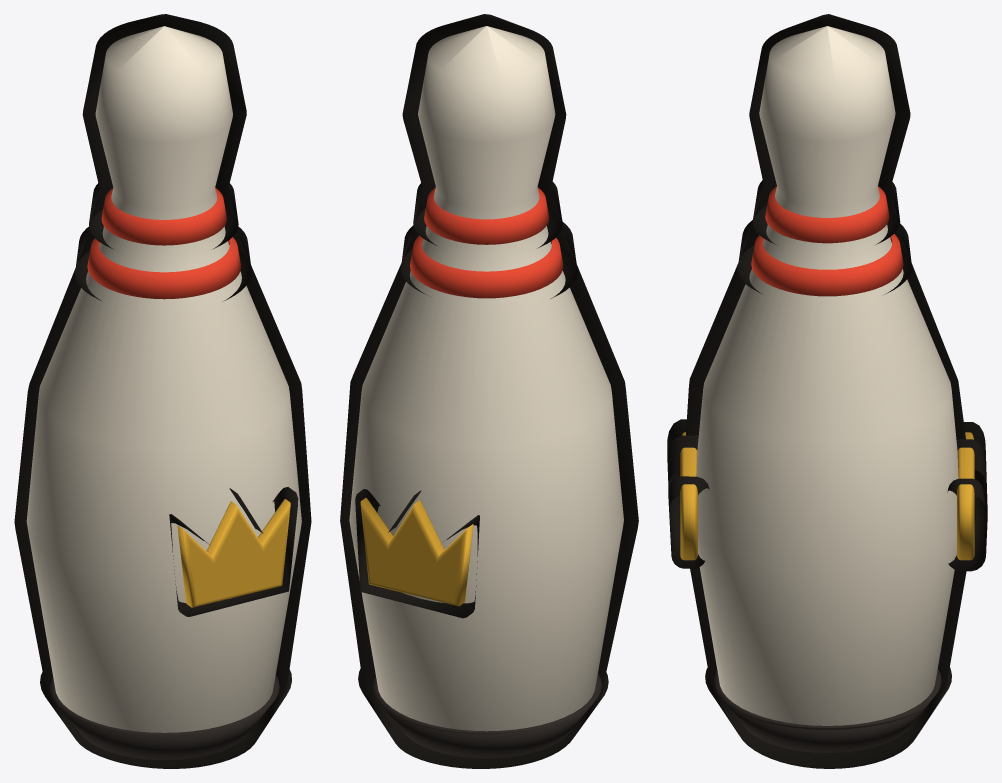
Rendered from bowlingpin.glb.
3 renders of one model, left to right at view 1: azimuth 30°, elevation 25°; view 2: azimuth 150°, elevation 25°; view 3: azimuth 270°, elevation 25°, orthographic.
Visible parts, largest first — view 1: BowlingPin, BowlingPin_outline; view 2: BowlingPin, BowlingPin_outline; view 3: BowlingPin, BowlingPin_outline.
Boxes of the visible parts, box(x1,y1,x2,y2) form: BowlingPin: box(26, 26, 301, 760); BowlingPin_outline: box(14, 14, 311, 768); BowlingPin: box(349, 26, 623, 758); BowlingPin_outline: box(340, 14, 638, 768); BowlingPin: box(680, 26, 974, 752); BowlingPin_outline: box(667, 14, 987, 768).
Size of the model in its own units: 0.7389 by 1.97 by 0.7997.
